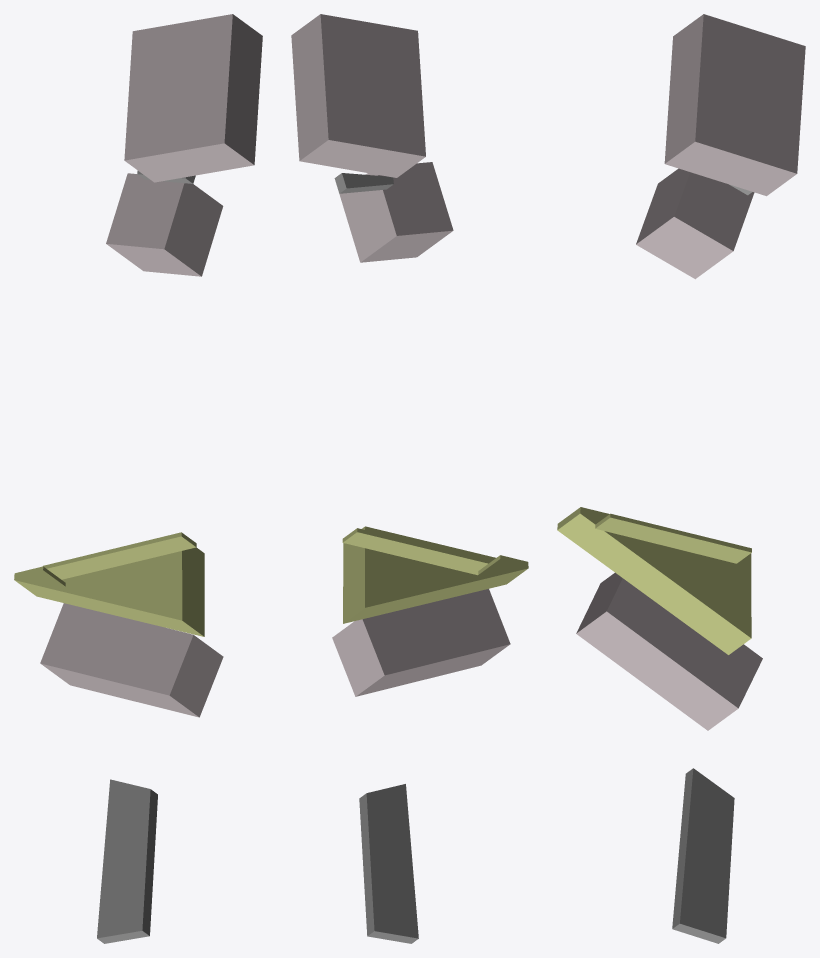
The picture shows the model from 3 angles, left to right: view 1: azimuth 30°, elevation 25°; view 2: azimuth 150°, elevation 25°; view 3: azimuth 330°, elevation 25°; orthographic projection. The views are drawn at different scales.
Visible parts, largest first — view 1: 0_2_1_3_0_3_1; view 2: 0_2_1_3_0_3_1; view 3: 0_2_1_3_0_3_1.
Boxes of the visible parts, x1=… form: 0_2_1_3_0_3_1: x1=14, y1=14, x2=262, y2=943; 0_2_1_3_0_3_1: x1=291, y1=14, x2=528, y2=943; 0_2_1_3_0_3_1: x1=557, y1=14, x2=805, y2=943.
Size of the model in its own units: 50.75 by 200 by 17.94.
